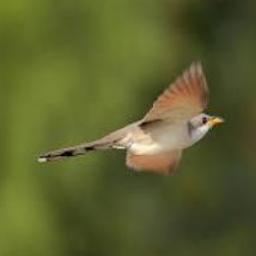Cuckoo: (37, 63, 224, 170)
